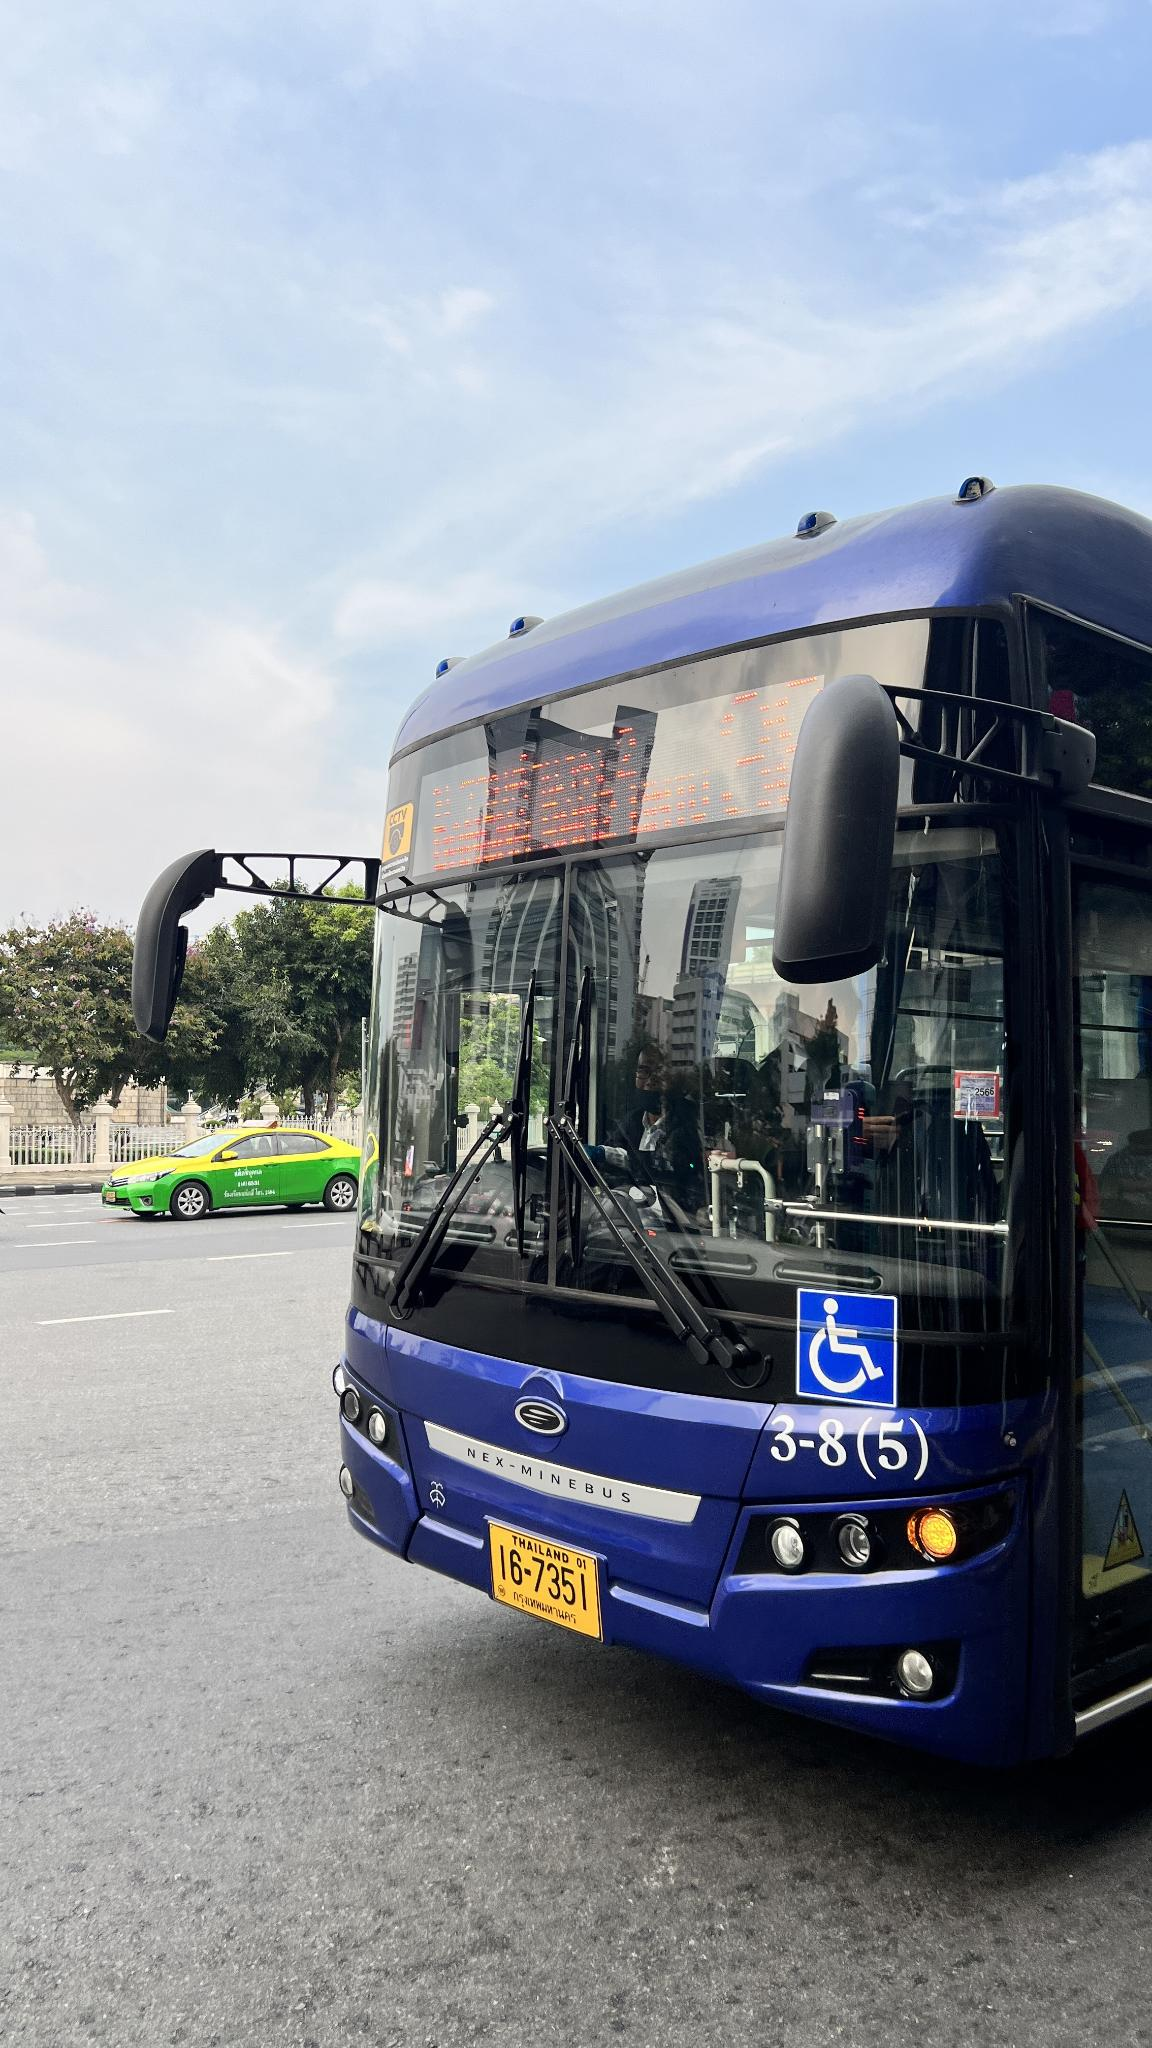Bus Line Number: (717, 663, 843, 821)
Bus Side Number: (758, 1405, 942, 1491)
Destination Sign: (408, 709, 715, 882)
TSB-Bus: (338, 482, 1152, 1781)
